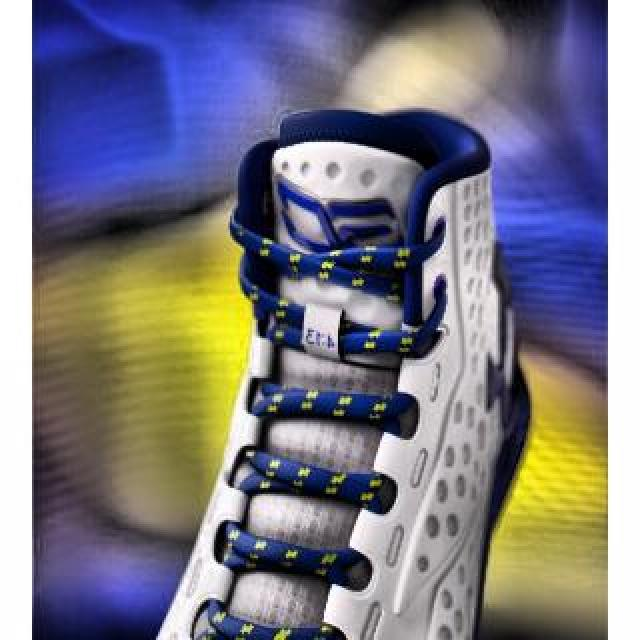shoe: (151, 110, 531, 640)
